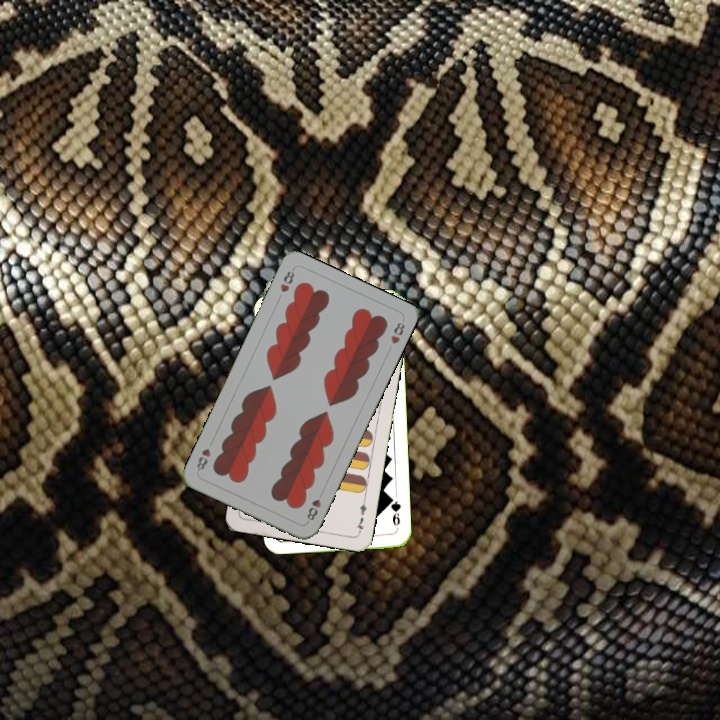E7: (352, 495, 369, 535)
G9: (386, 493, 403, 533)
H8: (303, 487, 326, 523), (276, 265, 297, 295)
